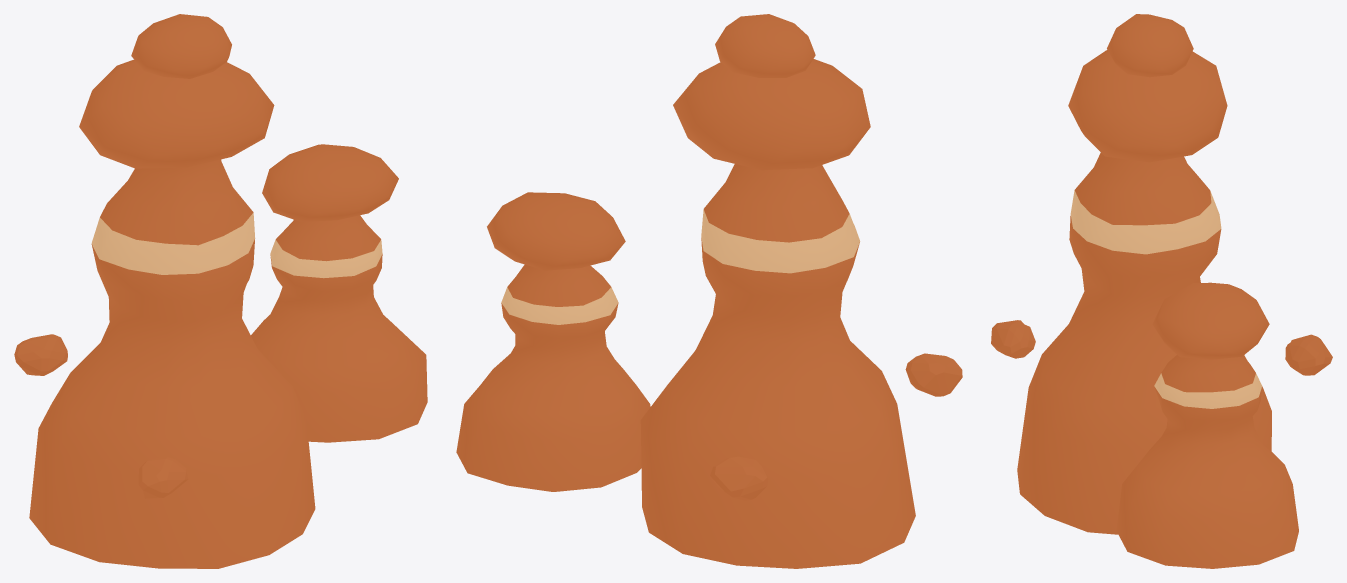
File: Blender_SandstoneHoodoo_1.glb
The picture shows the model from 3 angles, left to right: view 1: azimuth 30°, elevation 25°; view 2: azimuth 150°, elevation 25°; view 3: azimuth 270°, elevation 25°; orthographic projection. The views are drawn at different scales.
Visible parts, largest first — view 1: Blender_SandstoneHoodoo_1; view 2: Blender_SandstoneHoodoo_1; view 3: Blender_SandstoneHoodoo_1.
Part boxes in pixels (left/top/right/bottom): Blender_SandstoneHoodoo_1: left=14, top=14, right=427, bottom=568; Blender_SandstoneHoodoo_1: left=456, top=14, right=962, bottom=568; Blender_SandstoneHoodoo_1: left=991, top=14, right=1332, bottom=568.
Bounding box in the file's own units: 5.64 × 6.66 × 4.44.
